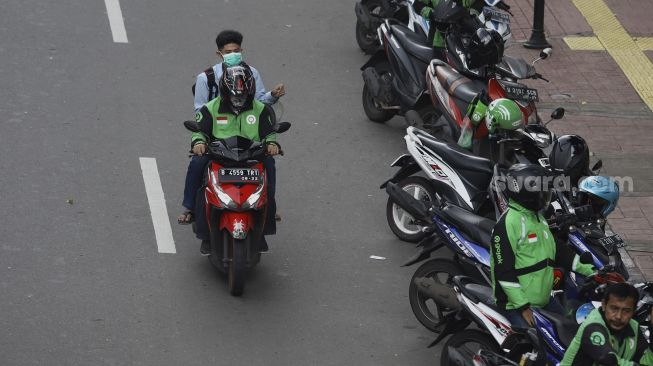motorbike: (443, 161, 642, 366), (190, 30, 281, 295)
